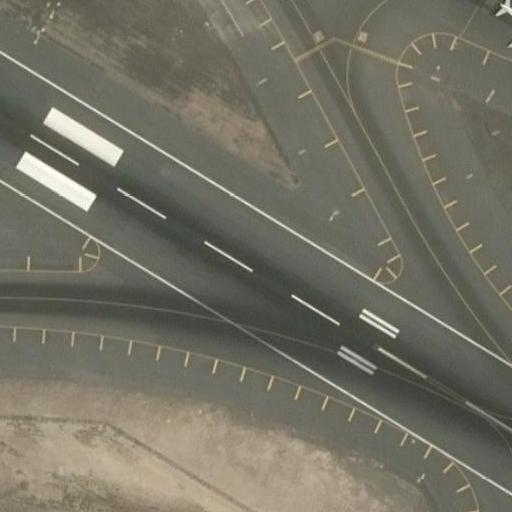Aircraft: (486, 0, 512, 60)
